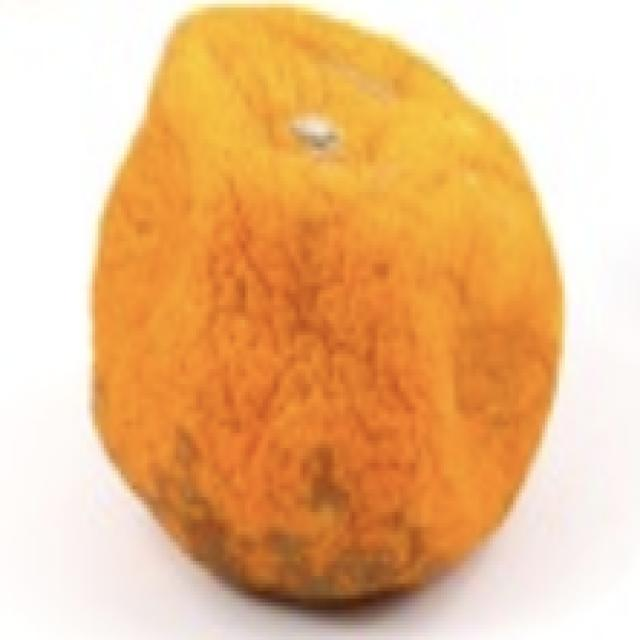sangat_busuk: (89, 5, 549, 594)
